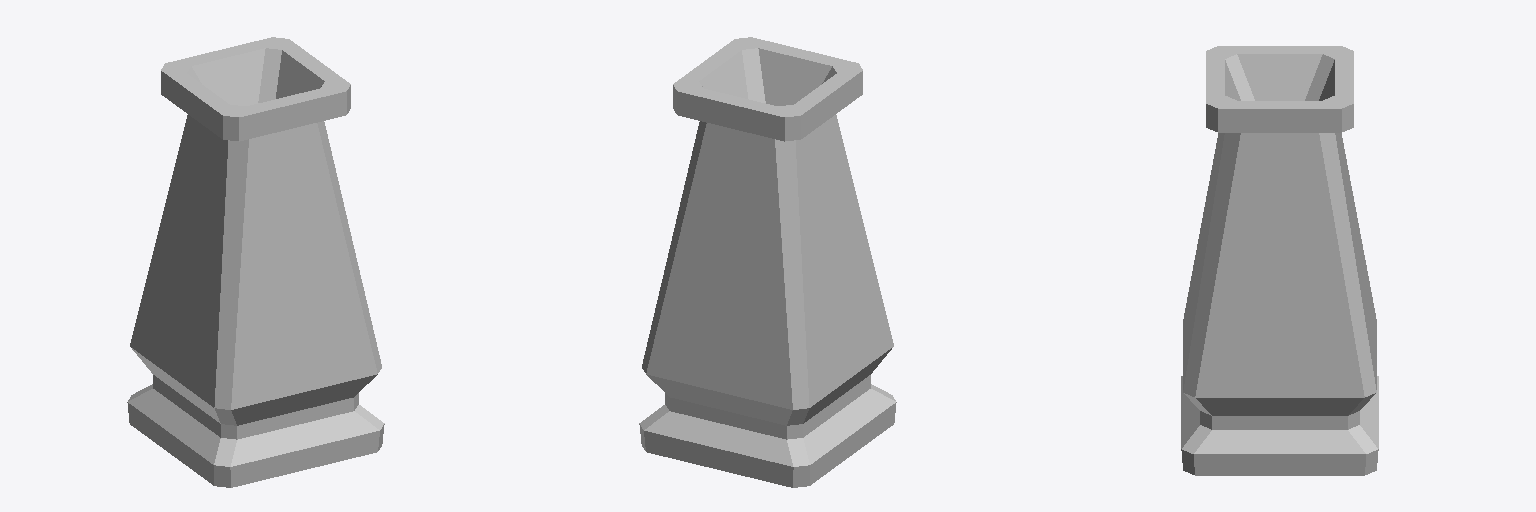
Rendered from Asset_vase_carre_01.obj.
3 renders of one model, left to right at view 1: azimuth 30°, elevation 25°; view 2: azimuth 150°, elevation 25°; view 3: azimuth 270°, elevation 25°, orthographic.
Parts seen in each view (by area): view 1: Vase_carre_01; view 2: Vase_carre_01; view 3: Vase_carre_01.
Boxes of the visible parts, box(x1,y1,x2,y2) form: Vase_carre_01: box(127, 37, 384, 487); Vase_carre_01: box(639, 37, 896, 487); Vase_carre_01: box(1181, 46, 1378, 475).
Size of the model in its own units: 189 by 378 by 189.